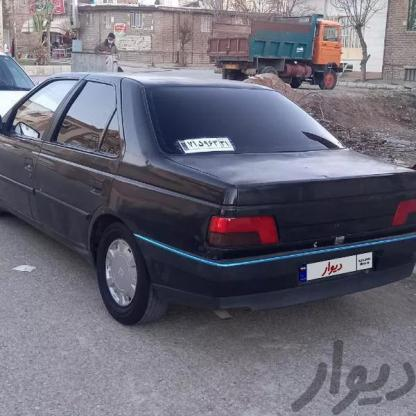Car: (0, 78, 416, 348), (0, 32, 51, 161)
Truck: (197, 8, 361, 96)
